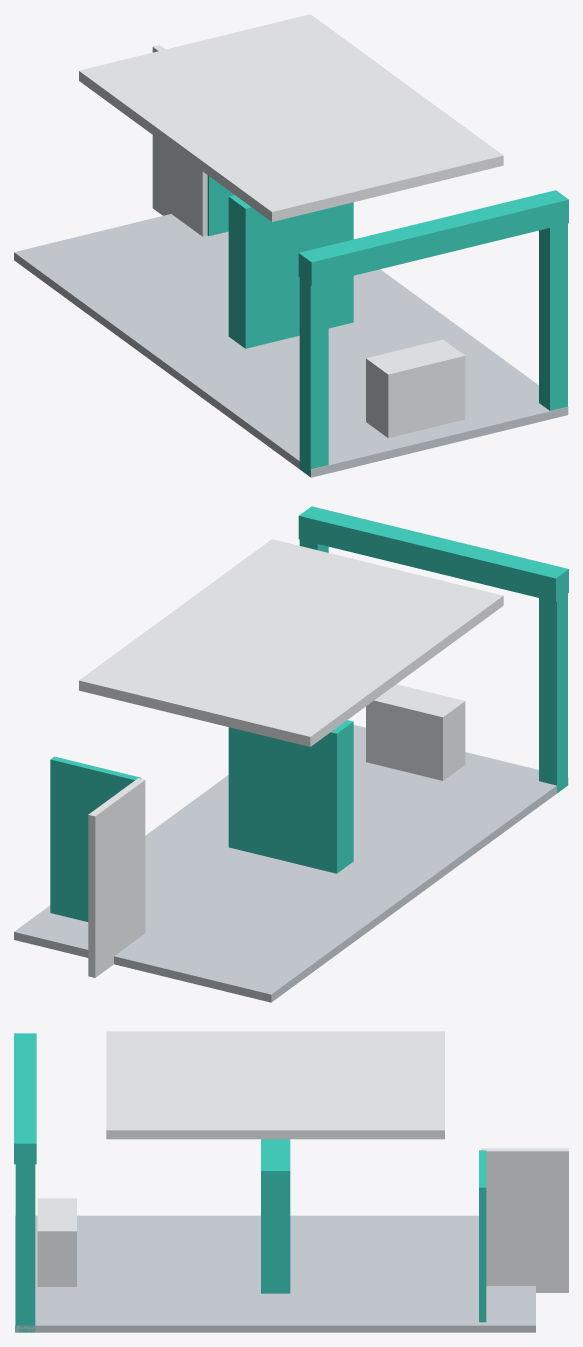
3 renders of one model, top to bottom at view 1: azimuth 30°, elevation 25°; view 2: azimuth 150°, elevation 25°; view 3: azimuth 270°, elevation 25°, orthographic. The views are drawn at different scales.
Parts seen in each view (by area): view 1: Exhibition Booth Concept; view 2: Exhibition Booth Concept; view 3: Exhibition Booth Concept.
Boxes of the visible parts, x1,y1,x2,y2 form: Exhibition Booth Concept: (14, 14, 568, 477); Exhibition Booth Concept: (14, 506, 568, 1002); Exhibition Booth Concept: (14, 1031, 568, 1332).
Size of the model in its own units: 4 by 3.34 by 8.52.
